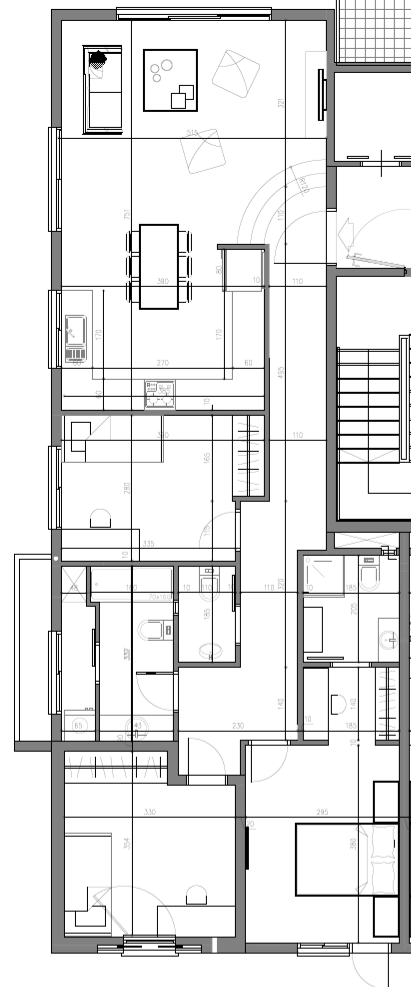door: (134, 666, 166, 710), (184, 734, 227, 765), (248, 751, 286, 783), (349, 962, 387, 985)
wall: (326, 287, 337, 531), (52, 740, 63, 952), (403, 533, 408, 955), (49, 6, 64, 122), (234, 777, 243, 949), (329, 24, 337, 208), (51, 532, 62, 625), (68, 741, 177, 750), (330, 267, 405, 277), (339, 519, 408, 529), (339, 62, 409, 71), (275, 8, 332, 17), (67, 9, 117, 18), (170, 756, 178, 783)
window: (49, 126, 59, 231), (47, 448, 59, 525), (48, 291, 57, 367), (49, 632, 57, 709), (296, 949, 349, 957)
